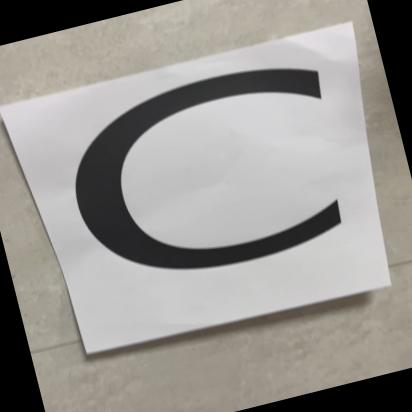seat: (0, 31, 379, 363)
